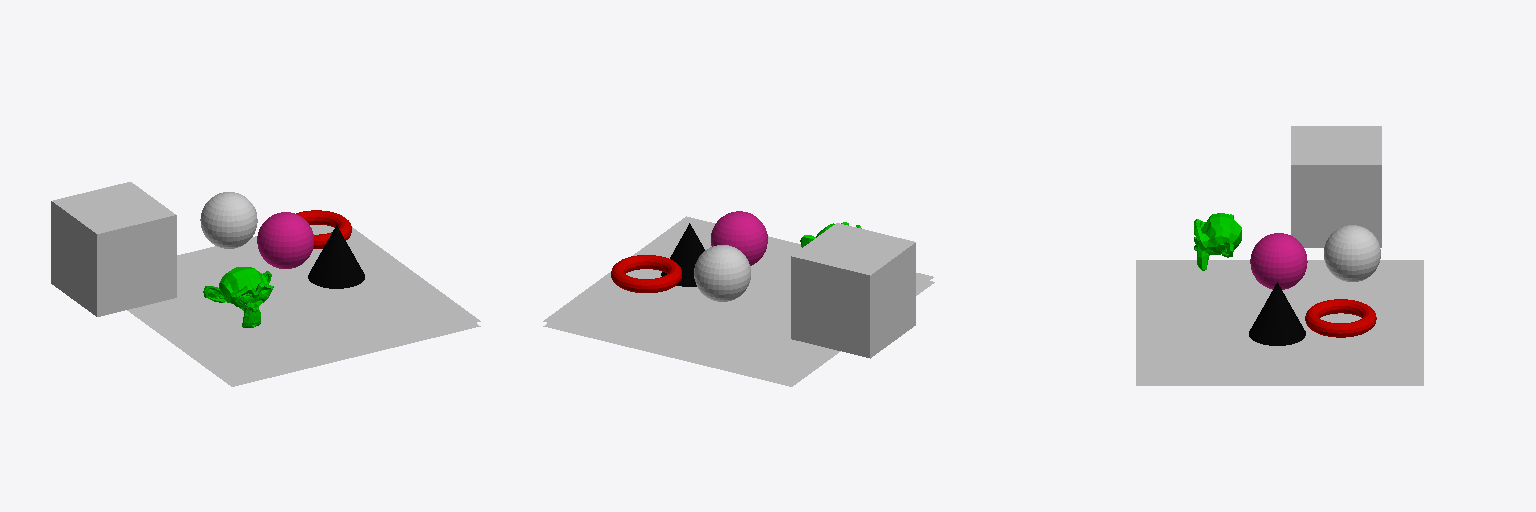
File: ReflectionTest.obj
3 views of the same model, side by side, from view 1: azimuth 30°, elevation 25°; view 2: azimuth 150°, elevation 25°; view 3: azimuth 270°, elevation 25° (orthographic).
Visible parts, largest first — view 1: Plane, Cube, Sphere, Sphere.001, Suzanne, Cone, Plane.001, Torus; view 2: Plane, Cube, Sphere.001, Sphere, Torus, Plane.001, Cone; view 3: Plane, Cube, Sphere.001, Sphere, Cone, Torus, Suzanne, Plane.001.
Boxes of the visible parts, <box> form: Plane: <box>133,225,480,381</box>; Cube: <box>51,182,176,316</box>; Sphere: <box>257,212,313,268</box>; Sphere.001: <box>200,192,257,248</box>; Suzanne: <box>203,267,273,327</box>; Cone: <box>308,225,364,288</box>; Plane.001: <box>127,309,480,386</box>; Torus: <box>296,210,351,248</box>; Plane: <box>543,216,933,381</box>; Cube: <box>791,223,915,358</box>; Sphere.001: <box>694,245,750,301</box>; Sphere: <box>711,211,767,265</box>; Torus: <box>611,255,681,292</box>; Plane.001: <box>543,281,934,386</box>; Cone: <box>661,223,704,286</box>; Plane: <box>1136,260,1423,380</box>; Cube: <box>1291,126,1381,247</box>; Sphere.001: <box>1324,225,1380,281</box>; Sphere: <box>1250,233,1307,289</box>; Cone: <box>1249,282,1305,345</box>; Torus: <box>1305,299,1376,337</box>; Suzanne: <box>1194,213,1241,270</box>; Plane.001: <box>1136,381,1423,385</box>.
Size of the model in its own units: 12.35 by 4.25 by 10.